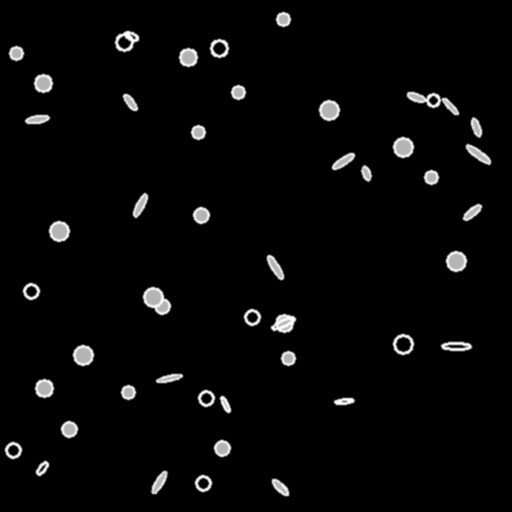pseudomonas: (465, 143, 491, 165), (265, 254, 285, 280), (131, 192, 149, 218), (331, 152, 355, 170), (150, 470, 168, 494), (271, 315, 295, 331), (462, 203, 482, 221), (270, 478, 290, 496), (441, 97, 459, 115), (122, 93, 138, 111), (406, 91, 426, 103), (441, 342, 471, 350), (470, 117, 482, 137), (157, 373, 181, 383), (35, 460, 49, 476), (26, 114, 48, 124), (219, 396, 231, 412), (123, 30, 139, 42), (334, 397, 354, 405), (361, 165, 371, 181)
synechocystis: (74, 346, 92, 364), (394, 335, 412, 353), (50, 222, 68, 240), (320, 101, 338, 119), (447, 252, 465, 270), (394, 138, 412, 156), (144, 288, 162, 306), (36, 380, 52, 396), (276, 315, 292, 331), (180, 49, 196, 65), (35, 75, 51, 91), (116, 34, 132, 50), (211, 40, 227, 56), (24, 284, 38, 298), (199, 391, 213, 405), (194, 208, 208, 222), (196, 476, 210, 490), (6, 443, 20, 457), (62, 422, 76, 436), (245, 310, 259, 324), (155, 299, 169, 313), (215, 441, 229, 455), (277, 13, 289, 25), (427, 94, 439, 106), (282, 352, 294, 364), (122, 386, 134, 398), (10, 47, 22, 59), (192, 126, 204, 138), (425, 171, 437, 183), (232, 86, 244, 98)
